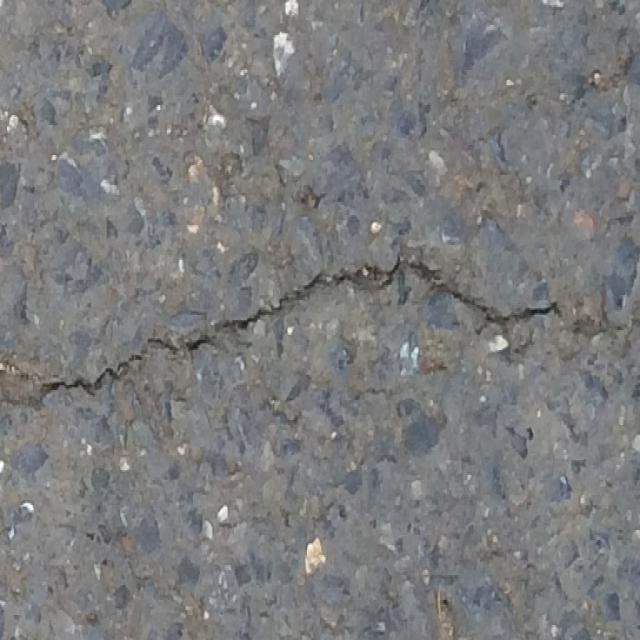Transverse: (0, 253, 640, 416)
